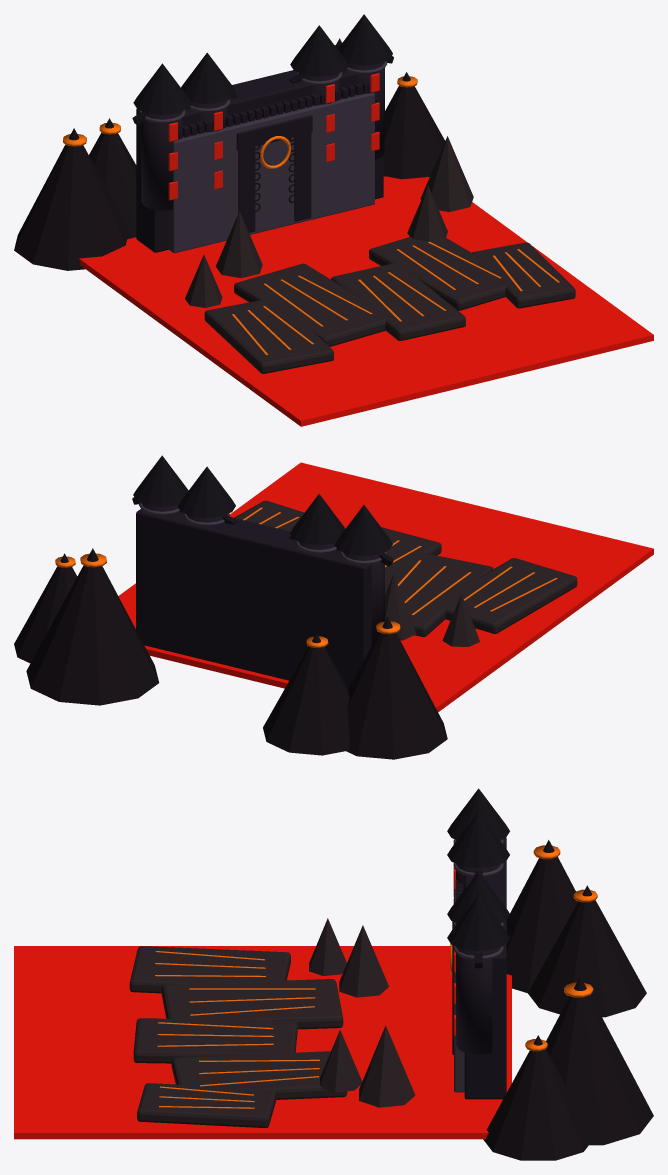
The model's file is lava_castle_environment.obj.
The picture shows the model from 3 angles, top to bottom: view 1: azimuth 30°, elevation 25°; view 2: azimuth 150°, elevation 25°; view 3: azimuth 270°, elevation 25°; orthographic projection. The views are drawn at different scales.
Parts seen in each view (by area): view 1: Lava_Basin, Castle_Front_Facade, Horizon_Volcano_0, Arena_Island_1, Arena_Island_0, Arena_Island_3, Arena_Island_2, Castle_Main_Keep, Horizon_Volcano_3, Arena_Island_4, Horizon_Volcano_1, Castle_Tower_0 (+12 smaller); view 2: Castle_Main_Keep, Lava_Basin, Horizon_Volcano_2, Horizon_Volcano_0, Horizon_Volcano_1, Arena_Island_0, Arena_Island_1, Horizon_Volcano_3, Tower_Roof_2, Tower_Roof_0, Tower_Roof_3, Tower_Roof_1 (+5 smaller); view 3: Lava_Basin, Horizon_Volcano_2, Horizon_Volcano_3, Horizon_Volcano_1, Arena_Island_1, Horizon_Volcano_0, Arena_Island_2, Arena_Island_0, Arena_Island_3, Arena_Island_4, Castle_Main_Keep, Castle_Tower_3 (+9 smaller).
Part boxes in pixels (box(x1,y1,x2,y2)): Lava_Basin: box(79, 176, 653, 426); Castle_Front_Facade: box(169, 93, 374, 253); Horizon_Volcano_0: box(14, 128, 132, 270); Arena_Island_1: box(234, 263, 390, 346); Arena_Island_0: box(204, 299, 333, 373); Arena_Island_3: box(369, 237, 518, 310); Arena_Island_2: box(331, 263, 465, 340); Castle_Main_Keep: box(136, 70, 383, 252); Horizon_Volcano_3: box(383, 72, 444, 179); Arena_Island_4: box(472, 242, 575, 308); Horizon_Volcano_1: box(89, 118, 136, 237); Castle_Tower_0: box(141, 111, 182, 210); Castle_Main_Keep: box(136, 509, 371, 689); Lava_Basin: box(118, 462, 653, 712); Horizon_Volcano_2: box(26, 548, 159, 705); Horizon_Volcano_0: box(346, 617, 447, 759); Horizon_Volcano_1: box(263, 633, 349, 755); Arena_Island_0: box(435, 558, 577, 633); Arena_Island_1: box(385, 552, 493, 636); Horizon_Volcano_3: box(14, 553, 77, 663); Tower_Roof_2: box(178, 466, 235, 517); Tower_Roof_0: box(335, 505, 392, 556); Tower_Roof_3: box(133, 455, 188, 507); Tower_Roof_1: box(290, 494, 345, 545); Lava_Basin: box(14, 946, 511, 1139); Horizon_Volcano_2: box(546, 976, 653, 1145); Horizon_Volcano_3: box(483, 1035, 591, 1160); Horizon_Volcano_1: box(528, 885, 646, 1017); Arena_Island_1: box(161, 979, 343, 1029); Horizon_Volcano_0: box(506, 840, 578, 992); Arena_Island_2: box(133, 1018, 297, 1063); Arena_Island_0: box(129, 946, 290, 993); Arena_Island_3: box(171, 1051, 347, 1099); Arena_Island_4: box(137, 1083, 276, 1127); Castle_Main_Keep: box(464, 838, 506, 1099); Castle_Tower_3: box(456, 946, 500, 1054).
Size of the model in its own units: 301 by 132 by 365.
